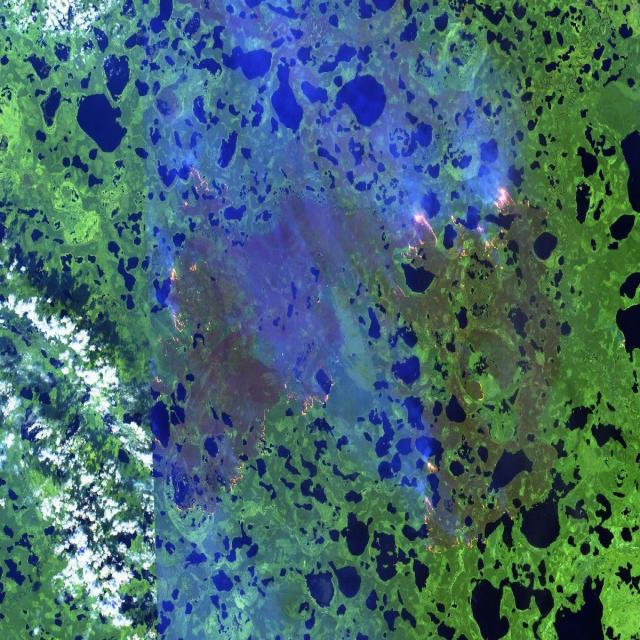fire: (397, 175, 529, 280)
